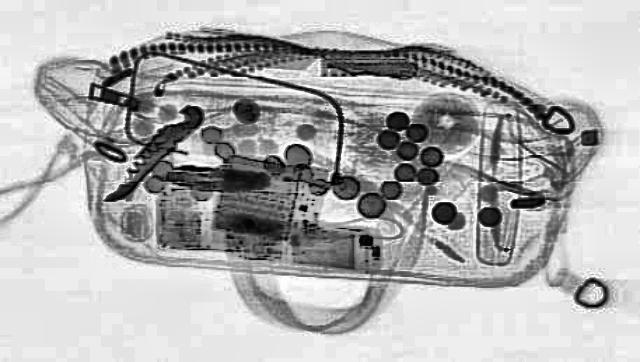Knife: (90, 101, 212, 205)
